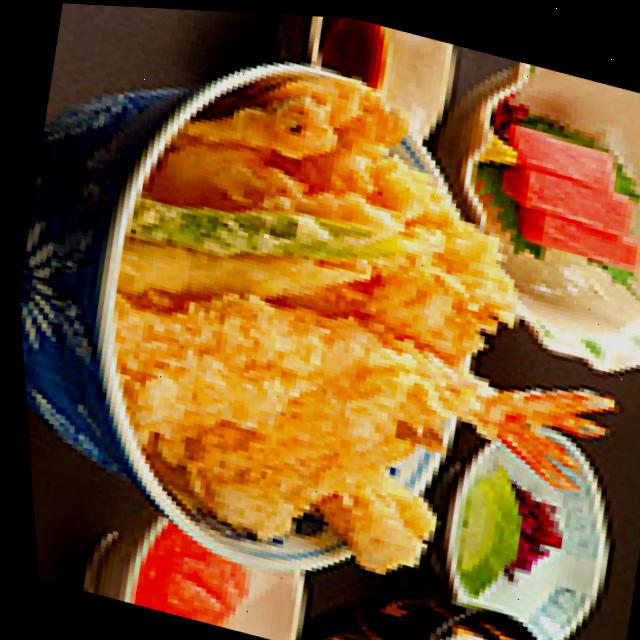熟制海鲜: (0, 0, 553, 614)
